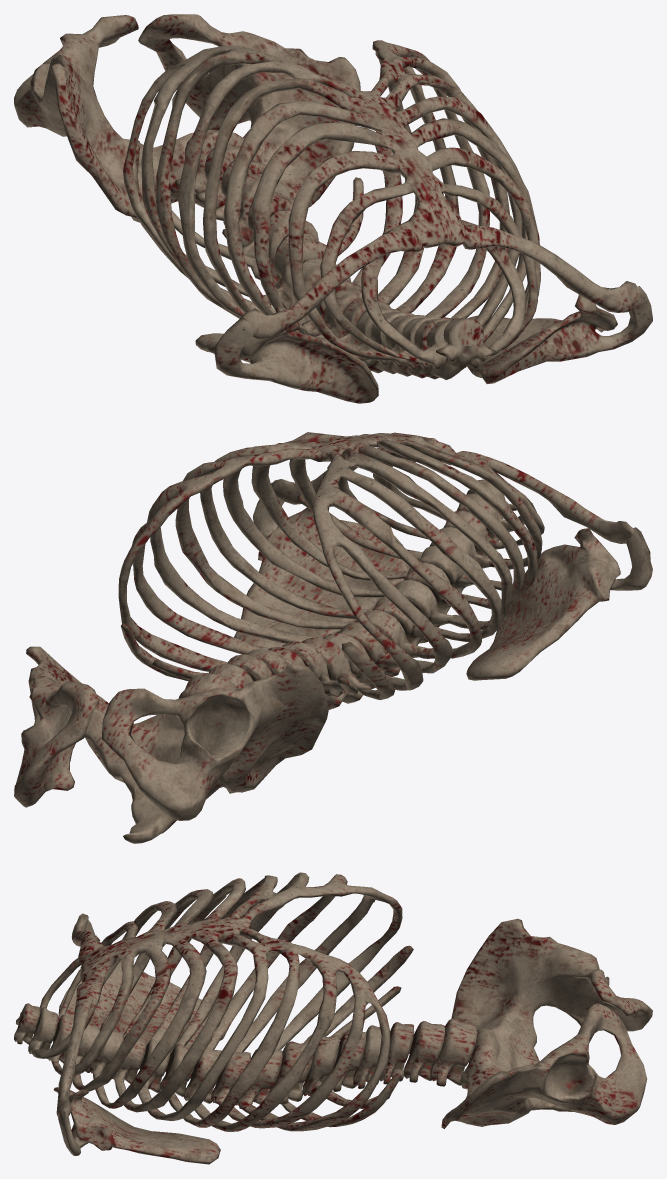
File: sm_Skeleton_01_01.fbx
3 renders of one model, top to bottom at view 1: azimuth 30°, elevation 25°; view 2: azimuth 150°, elevation 25°; view 3: azimuth 270°, elevation 25°, orthographic. The views are drawn at different scales.
Visible parts, largest first — view 1: sm_Skeleton_01_01_LOD0; view 2: sm_Skeleton_01_01_LOD0; view 3: sm_Skeleton_01_01_LOD0.
Boxes of the visible parts, x1,y1,x2,y2 form: sm_Skeleton_01_01_LOD0: (14,14,652,403); sm_Skeleton_01_01_LOD0: (14,432,652,843); sm_Skeleton_01_01_LOD0: (14,872,652,1164).
Bounding box in the file's own units: 46.8 × 75.77 × 27.84.
